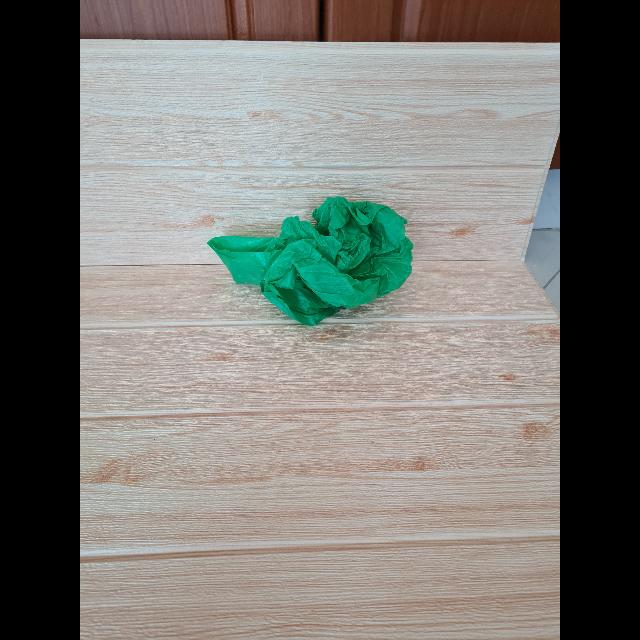plastic_bag: (193, 181, 419, 333)
